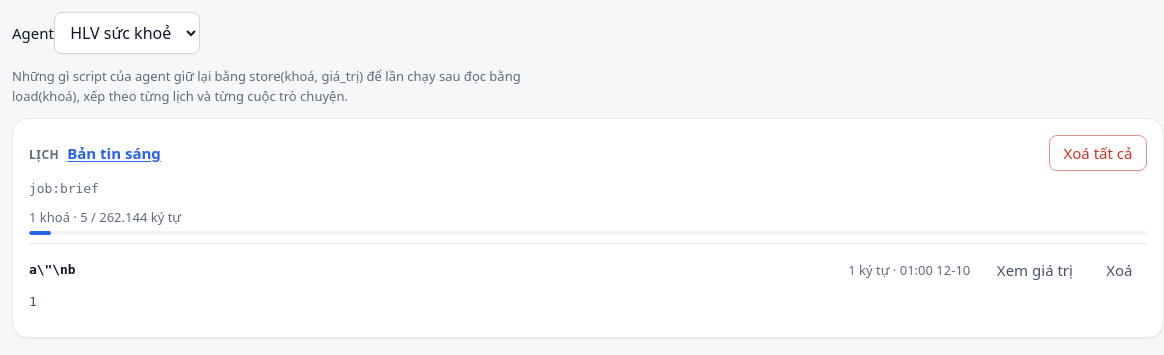
Test case: a key named in the delete question and in the line that follows › is named the same way in the line that says it is gone
Check: the list item with test id "script-store-entry" is shown, box [29,243,1147,320]
Click the button "Xem giá trị". click: (1035, 270)
box: [982,252,1088,288]
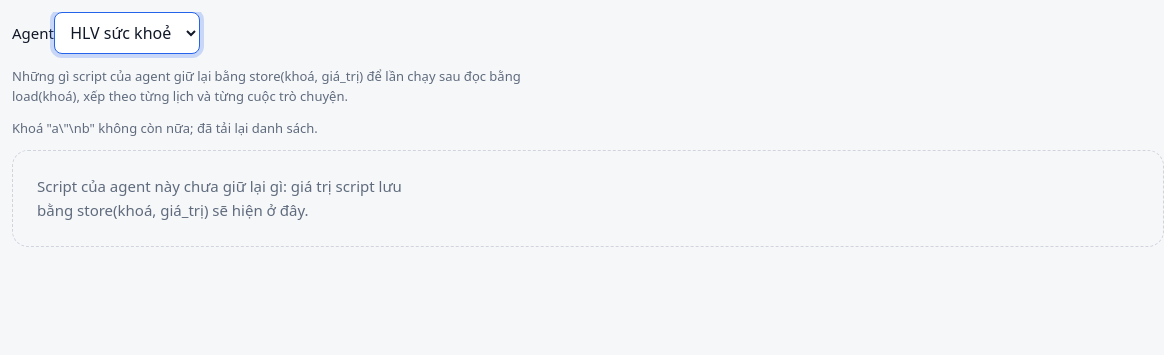
Check: the message reads "Khoá \"a\\\"\\nb\" không còn nữa; đã tải lại danh sách.", box [12,119,318,137]
